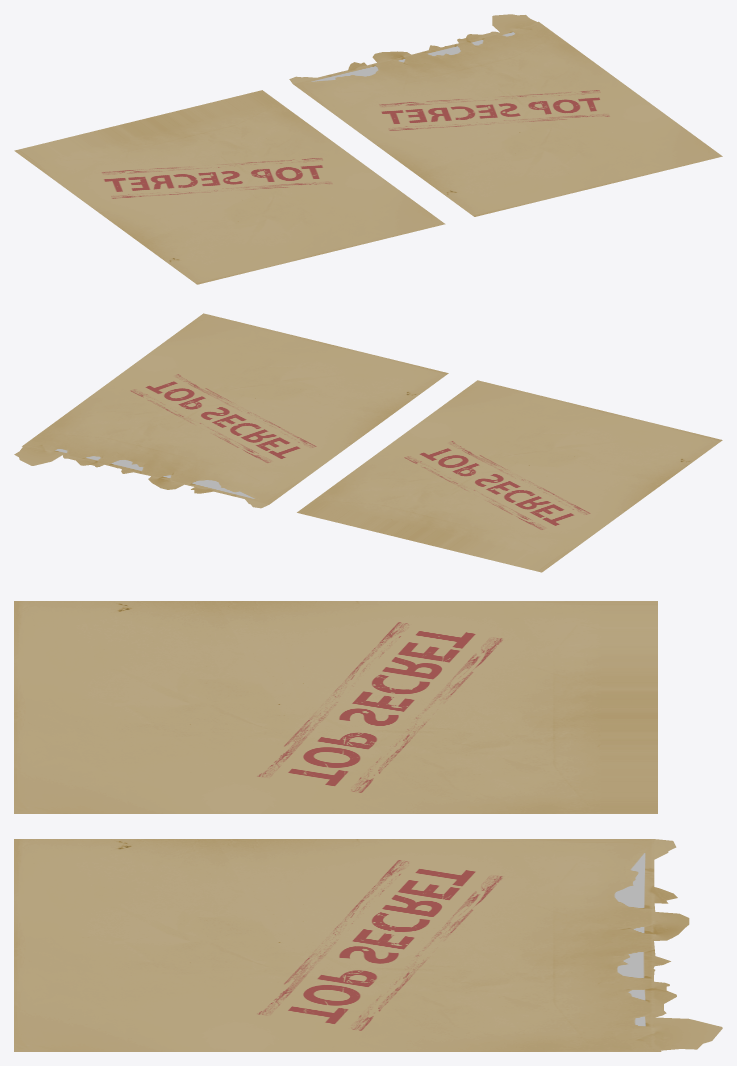
File: paper_envelope_b_01.FBX
The picture shows the model from 3 angles, top to bottom: view 1: azimuth 30°, elevation 25°; view 2: azimuth 150°, elevation 25°; view 3: azimuth 270°, elevation 25°; orthographic projection. The views are drawn at different scales.
Parts seen in each view (by area): view 1: paper_envelope_b_01, paper_envelope_b_02; view 2: paper_envelope_b_01, paper_envelope_b_02; view 3: paper_envelope_b_01, paper_envelope_b_02.
Part boxes in pixels (x1,y1,x2,y2): paper_envelope_b_01: (289,14,722,216); paper_envelope_b_02: (14,90,445,284); paper_envelope_b_01: (14,313,448,508); paper_envelope_b_02: (297,380,722,572); paper_envelope_b_01: (14,839,722,1051); paper_envelope_b_02: (14,601,657,813).
Size of the model in its own units: 0.499 by 3.99e-07 by 0.3317.
